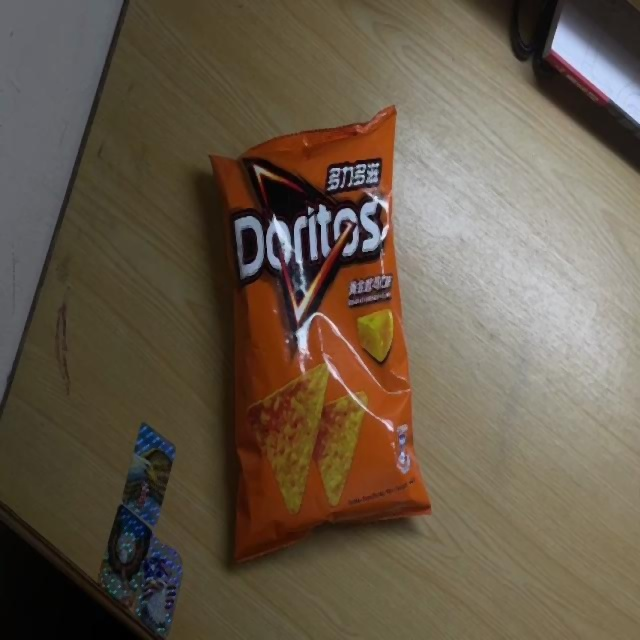Doritos: (208, 103, 432, 566)
